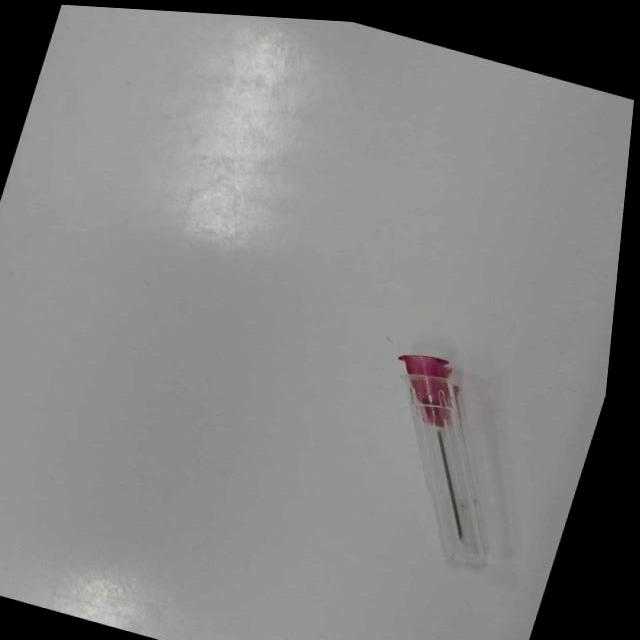General: (397, 350, 459, 428)
Pathological: (0, 2, 635, 637)
Sharps: (395, 351, 488, 565)
